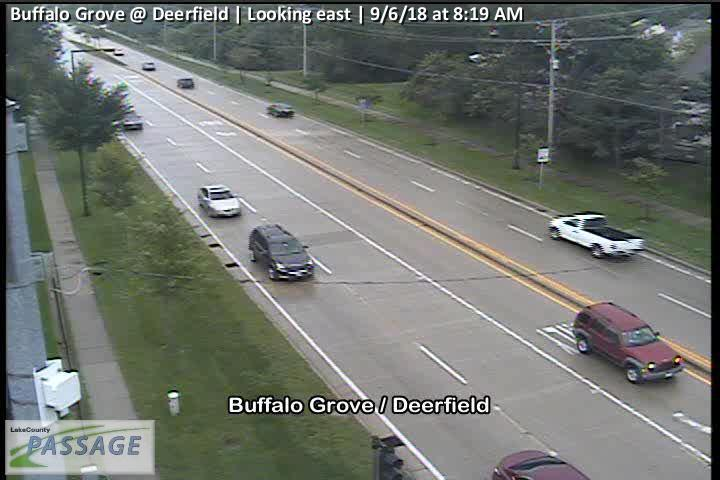SUV: (573, 301, 686, 386), (248, 223, 313, 280)
Sedan: (492, 450, 587, 480), (196, 185, 242, 217), (120, 112, 144, 130), (267, 102, 294, 116), (176, 77, 194, 88), (141, 61, 154, 70), (114, 48, 123, 56)
Truck: (549, 212, 647, 260)
